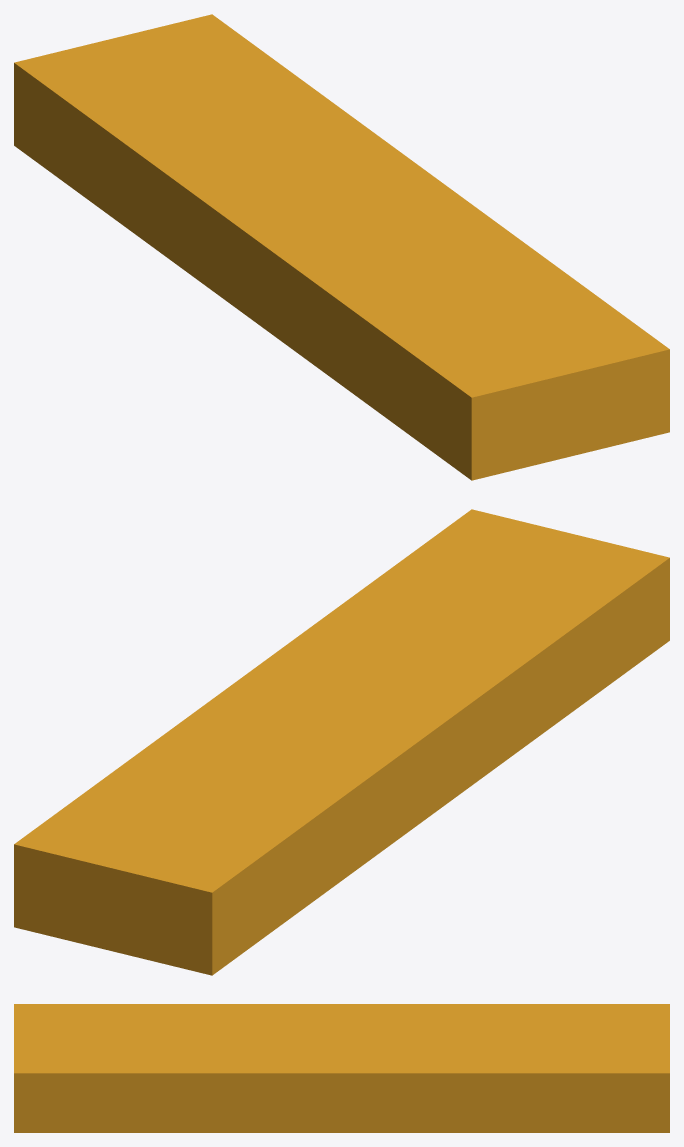
Rendered from tahta.fbx.
3 renders of one model, top to bottom at view 1: azimuth 30°, elevation 25°; view 2: azimuth 150°, elevation 25°; view 3: azimuth 270°, elevation 25°, orthographic. The views are drawn at different scales.
Parts seen in each view (by area): view 1: Cube, Cube.001; view 2: Cube.001, Cube; view 3: Cube, Cube.001.
Part boxes in pixels (box(x1,y1,x2,y2)): Cube: box(243, 182, 669, 480); Cube.001: box(14, 14, 440, 312); Cube.001: box(14, 677, 440, 975); Cube: box(243, 509, 669, 807); Cube: box(14, 1004, 341, 1132); Cube.001: box(342, 1004, 669, 1132).
Bounding box in the file's own units: 100 × 40 × 400.
